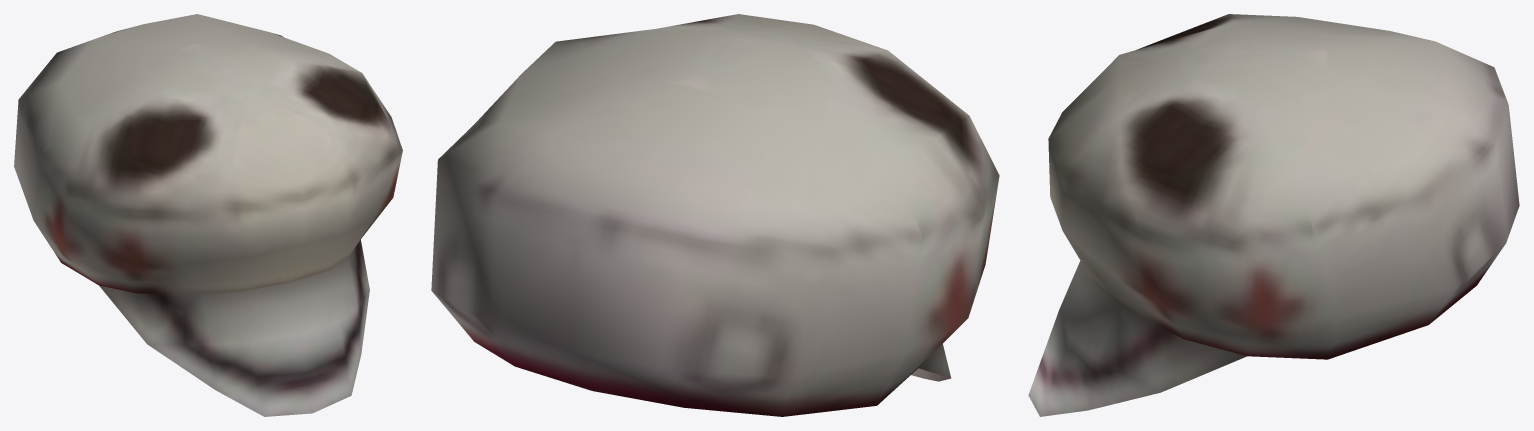
The model's file is nurseCapR.glb.
3 views of the same model, side by side, from view 1: azimuth 30°, elevation 25°; view 2: azimuth 150°, elevation 25°; view 3: azimuth 270°, elevation 25° (orthographic). The views are drawn at different scales.
Parts seen in each view (by area): view 1: nurseCapR; view 2: nurseCapR; view 3: nurseCapR.
Boxes of the visible parts, left/top/right/bottom form: nurseCapR: left=14, top=14, right=402, bottom=416; nurseCapR: left=431, top=14, right=999, bottom=416; nurseCapR: left=1028, top=14, right=1519, bottom=416.
Bounding box in the file's own units: 0.2895 × 0.2448 × 0.3155.
Materials: 1 (1 with a texture image).
